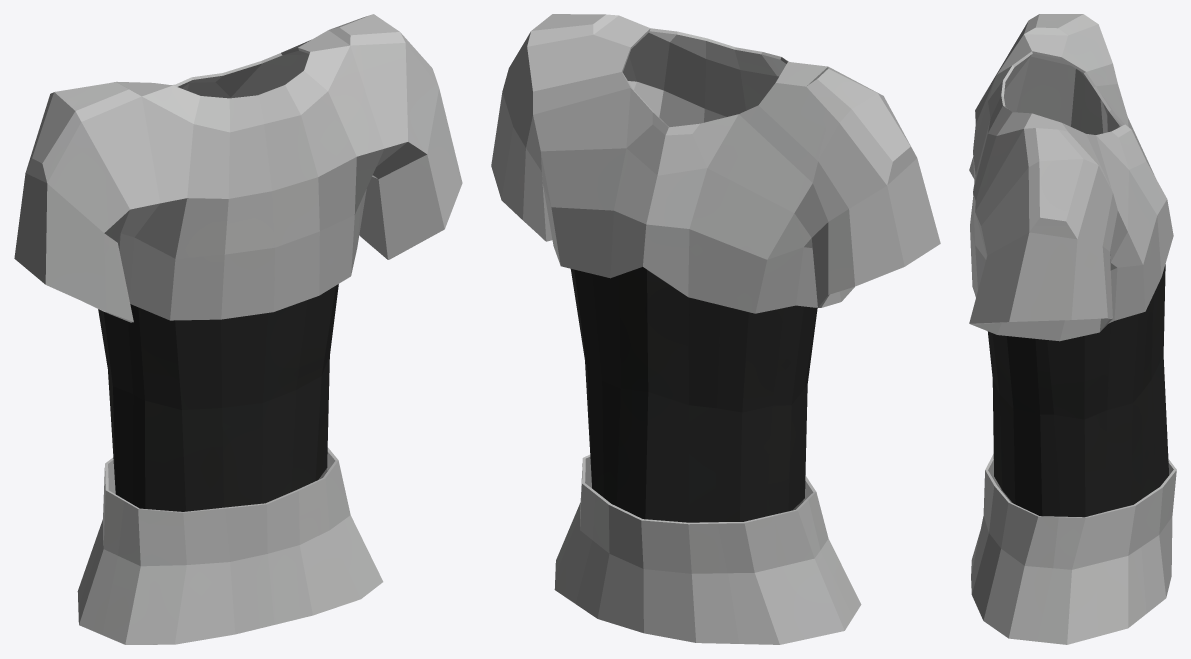
File: Armor_Breastplate.fbx
3 views of the same model, side by side, from view 1: azimuth 30°, elevation 25°; view 2: azimuth 150°, elevation 25°; view 3: azimuth 270°, elevation 25° (orthographic). The views are drawn at different scales.
Visible parts, largest first — view 1: Armor_Breastplate; view 2: Armor_Breastplate; view 3: Armor_Breastplate.
Part boxes in pixels (<box>): Armor_Breastplate: <box>14,14,462,644</box>; Armor_Breastplate: <box>491,14,940,644</box>; Armor_Breastplate: <box>969,14,1176,644</box>.
Size of the model in its own units: 45.69 by 56.71 by 21.21.
